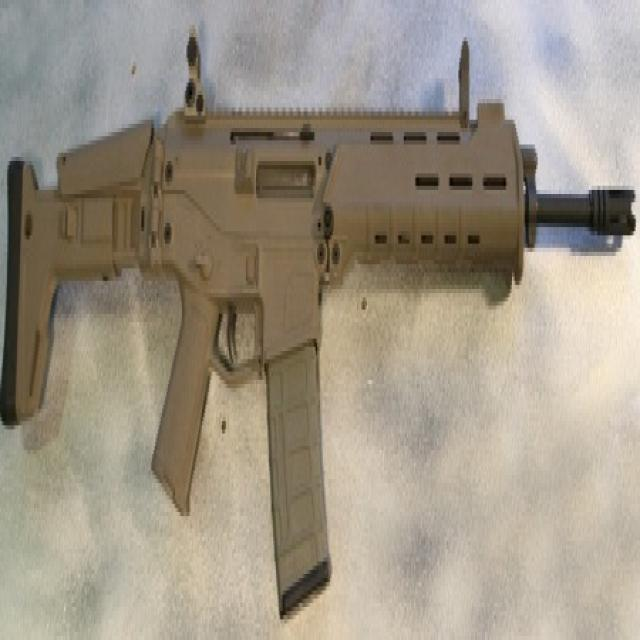rifle: (1, 31, 640, 632)
